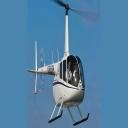helicopter: (27, 2, 99, 127)
